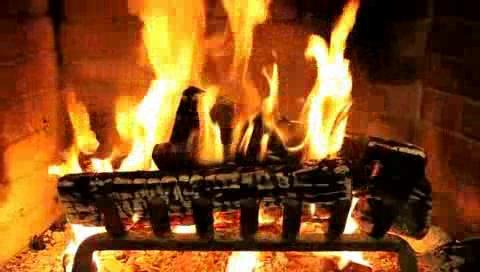fire: (113, 0, 370, 176)
